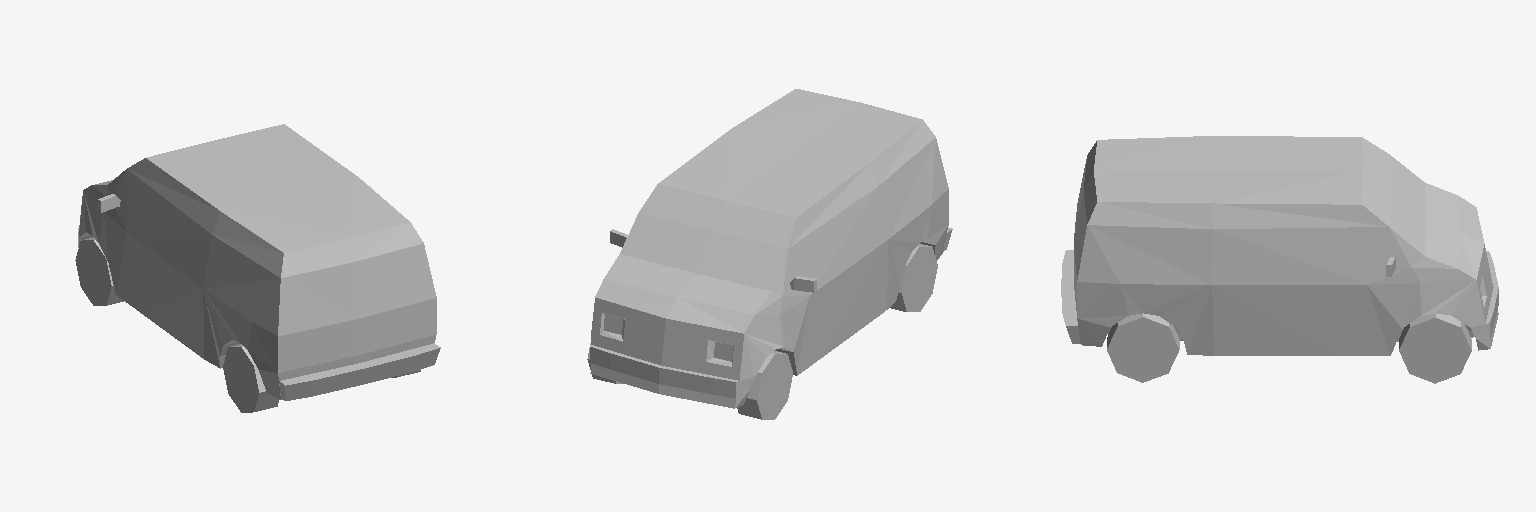
The model's file is Car4_o3.obj.
3 views of the same model, side by side, from view 1: azimuth 30°, elevation 25°; view 2: azimuth 150°, elevation 25°; view 3: azimuth 270°, elevation 25° (orthographic).
Parts seen in each view (by area): view 1: Car4; view 2: Car4; view 3: Car4.
Boxes of the visible parts, x1,y1,x2,y2 form: Car4: [75, 124, 440, 412]; Car4: [587, 89, 952, 419]; Car4: [1061, 136, 1498, 383].
Bounding box in the file's own units: 1.98 × 1.6 × 3.67.